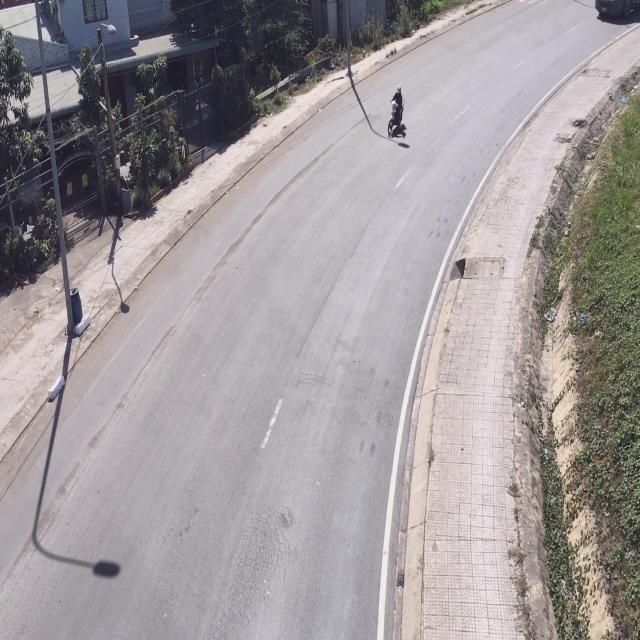motorbike: (386, 86, 406, 144)
